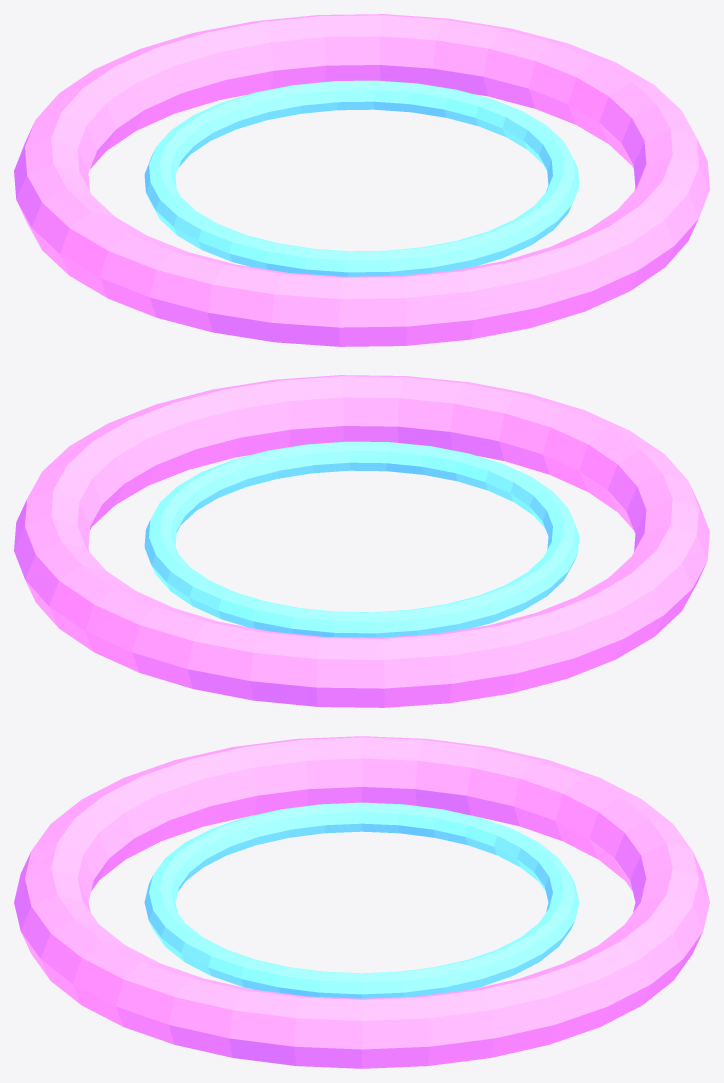
Rendered from magicata_01.glb.
3 views of the same model, one above another, from view 1: azimuth 30°, elevation 25°; view 2: azimuth 150°, elevation 25°; view 3: azimuth 270°, elevation 25° (orthographic).
Visible parts, largest first — view 1: portal_frame, portal_inner; view 2: portal_frame, portal_inner; view 3: portal_frame, portal_inner.
Part boxes in pixels (bbox=[...]): portal_frame: bbox=[14, 14, 709, 346]; portal_inner: bbox=[144, 80, 579, 276]; portal_frame: bbox=[14, 375, 709, 707]; portal_inner: bbox=[144, 441, 579, 637]; portal_frame: bbox=[14, 736, 709, 1068]; portal_inner: bbox=[144, 802, 579, 998].
Size of the model in its own units: 2.24 by 0.24 by 2.24.
